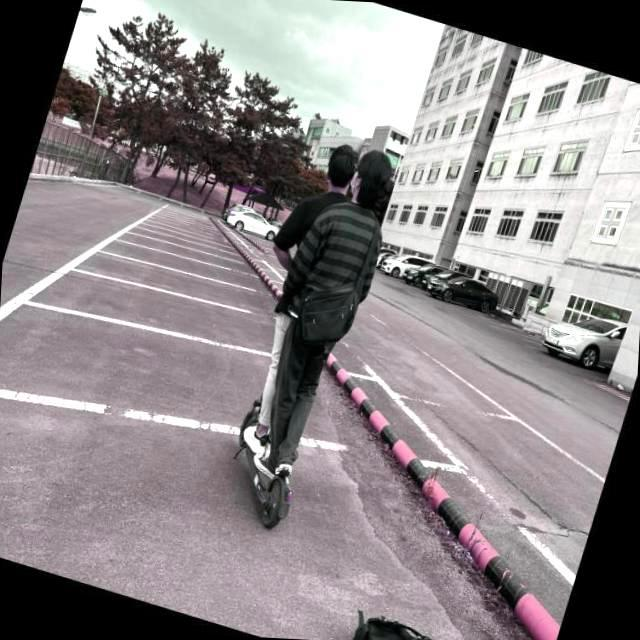bare_head: (351, 145, 395, 205), (323, 137, 355, 195)
human: (253, 150, 390, 473), (237, 137, 358, 458)
kickboard: (231, 392, 296, 539)
